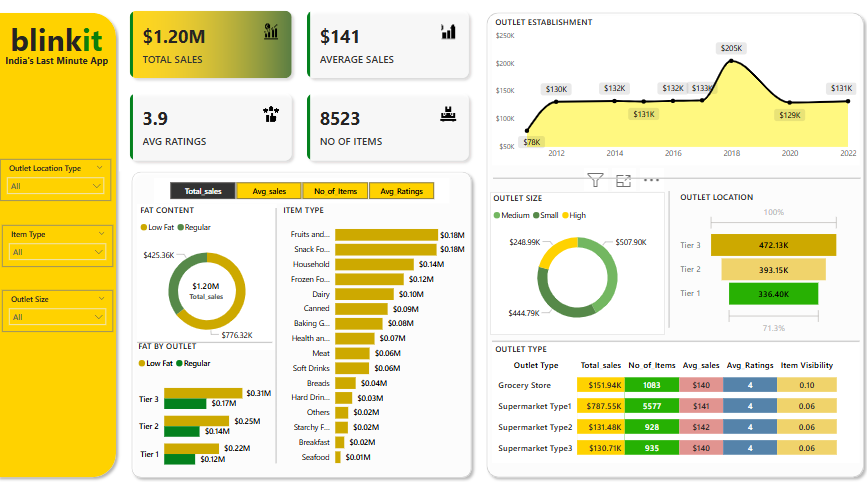

The page's visual inventory and layout, read from the dashboard file:
{"tool":"powerbi","page":{"name":"Page 1","canvas":[1400,800],"ordinal":0},"visuals":[{"type":"shape","box":[0,20.2,205.8,749.6],"z":0},{"type":"textbox","box":[25.7,33.1,170.9,77.2],"z":1000},{"type":"textbox","box":[16.5,90,196.6,42.3],"z":2000},{"type":"cardVisual","fields":{"Data":["BlinkIT Grocery Data.Total_sales","BlinkIT Grocery Data.Avg_sales","BlinkIT Grocery Data.Avg_Ratings","BlinkIT Grocery Data.No_of_Items"]},"box":[202.1,9.2,569.6,270.1],"z":3000},{"type":"shape","box":[213.1,270.1,553,499.7],"z":4000},{"type":"donutChart","title":"FAT CONTENT","fields":{"Y":["BlinkIT Grocery Data.Total_sales"],"Category":["BlinkIT Grocery Data.Item Fat Content"]},"box":[229.7,330.7,220.5,229.7],"z":5000},{"type":"slicer","fields":{"Values":["Metrics.Metrics"]},"box":[257.2,290.3,464.8,40.4],"z":6000},{"type":"cardVisual","fields":{"Data":["BlinkIT Grocery Data.Total_sales"]},"box":[286.6,426.2,104.7,80.8],"z":7000},{"type":"clusteredBarChart","title":"FAT BY OUTLET","fields":{"Y":["BlinkIT Grocery Data.Total_sales"],"Category":["BlinkIT Grocery Data.Outlet Location Type"],"Series":["BlinkIT Grocery Data.Item Fat Content"]},"box":[226.8,544.9,218.9,220.5],"z":8000},{"type":"shape","box":[229.7,538.3,213.1,20.2],"z":9000},{"type":"shape","box":[442.8,336.2,12.9,402.4],"z":10000},{"type":"barChart","title":"ITEM TYPE","fields":{"Y":["BlinkIT Grocery Data.Total_sales"],"Category":["BlinkIT Grocery Data.Item Type"]},"box":[455.6,330.7,295.8,422.6],"z":11000},{"type":"shape","box":[771.7,20.2,611.8,749.6],"z":12000},{"type":"lineChart","title":"OUTLET ESTABLISHMENT","fields":{"Y":["BlinkIT Grocery Data.Total_sales"],"Category":["BlinkIT Grocery Data.Outlet Establishment Year"]},"box":[788.2,34.9,578.7,235.2],"z":13000},{"type":"donutChart","title":"OUTLET SIZE","fields":{"Y":["BlinkIT Grocery Data.Total_sales"],"Category":["BlinkIT Grocery Data.Outlet Size"]},"box":[786.4,312.3,275.6,224.1],"z":14000},{"type":"shape","box":[1061.9,310.5,12.9,215],"z":15000},{"type":"funnel","title":"OUTLET LOCATION","fields":{"Y":["Sum(BlinkIT Grocery Data.Sales)"],"Category":["BlinkIT Grocery Data.Outlet Location Type"]},"box":[1080.3,310.5,260.9,229.7],"z":16000},{"type":"shape","box":[788.2,538.3,578.7,16.5],"z":17000},{"type":"shape","box":[790,281.1,578.7,16.5],"z":18000},{"type":"pivotTable","title":"OUTLET TYPE","fields":{"Rows":["BlinkIT Grocery Data.Outlet Type"],"Values":["BlinkIT Grocery Data.Total_sales","BlinkIT Grocery Data.No_of_Items","BlinkIT Grocery Data.Avg_sales","BlinkIT Grocery Data.Avg_Ratings","Avg(BlinkIT Grocery Data.Item Visibility)"]},"box":[788.2,549.3,578.7,189.2],"z":19000},{"type":"slicer","fields":{"Values":["BlinkIT Grocery Data.Item Type"]},"box":[17.3,363.8,174.8,66.1],"z":20000},{"type":"slicer","fields":{"Values":["BlinkIT Grocery Data.Outlet Size"]},"box":[17.3,466.1,174.8,66.1],"z":21000},{"type":"slicer","fields":{"Values":["BlinkIT Grocery Data.Outlet Location Type"]},"box":[14.2,259.3,174.8,66.1],"z":22000},{"type":"textbox","box":[48.8,214.2,105.5,31.5],"z":22001}]}

Visuals, with their boxes in screenshot pixels (x1, y1, x2, y2), scaled from the page's 1400x800 canvas onto the 867x482 screenshot:
shape: <box>0,12,127,464</box>
textbox: <box>16,20,122,66</box>
textbox: <box>10,54,132,80</box>
cardVisual - BlinkIT Grocery Data.Total_sales x BlinkIT Grocery Data.Avg_sales: <box>125,6,478,168</box>
shape: <box>132,163,474,464</box>
"FAT CONTENT" donutChart: <box>142,199,279,338</box>
slicer - Metrics.Metrics: <box>159,175,447,199</box>
cardVisual - BlinkIT Grocery Data.Total_sales: <box>177,257,242,305</box>
"FAT BY OUTLET" clusteredBarChart: <box>140,328,276,461</box>
shape: <box>142,324,274,336</box>
shape: <box>274,203,282,445</box>
"ITEM TYPE" barChart: <box>282,199,465,454</box>
shape: <box>478,12,857,464</box>
"OUTLET ESTABLISHMENT" lineChart: <box>488,21,847,163</box>
"OUTLET SIZE" donutChart: <box>487,188,658,323</box>
shape: <box>658,187,666,317</box>
"OUTLET LOCATION" funnel: <box>669,187,831,325</box>
shape: <box>488,324,847,334</box>
shape: <box>489,169,848,179</box>
"OUTLET TYPE" pivotTable: <box>488,331,847,445</box>
slicer - BlinkIT Grocery Data.Item Type: <box>11,219,119,259</box>
slicer - BlinkIT Grocery Data.Outlet Size: <box>11,281,119,321</box>
slicer - BlinkIT Grocery Data.Outlet Location Type: <box>9,156,117,196</box>
textbox: <box>30,129,96,148</box>
